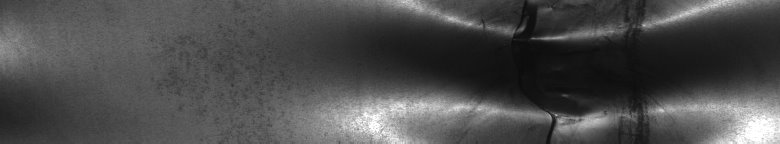ke: (430, 4, 735, 136)
